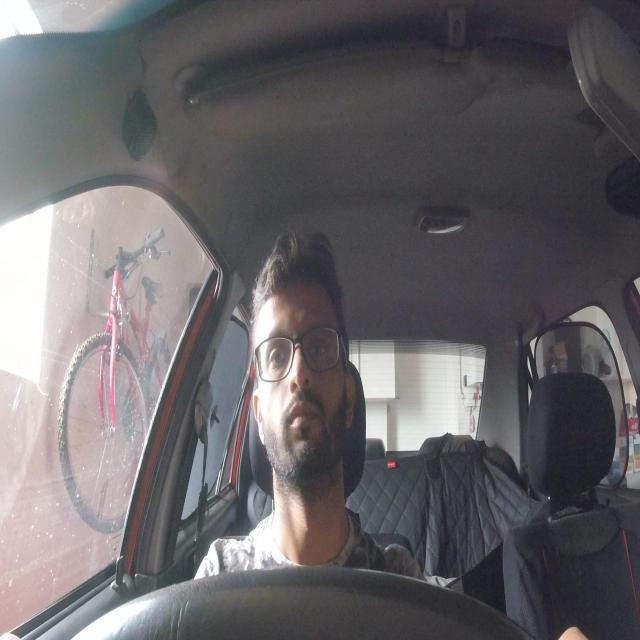open: (262, 324, 295, 386)
